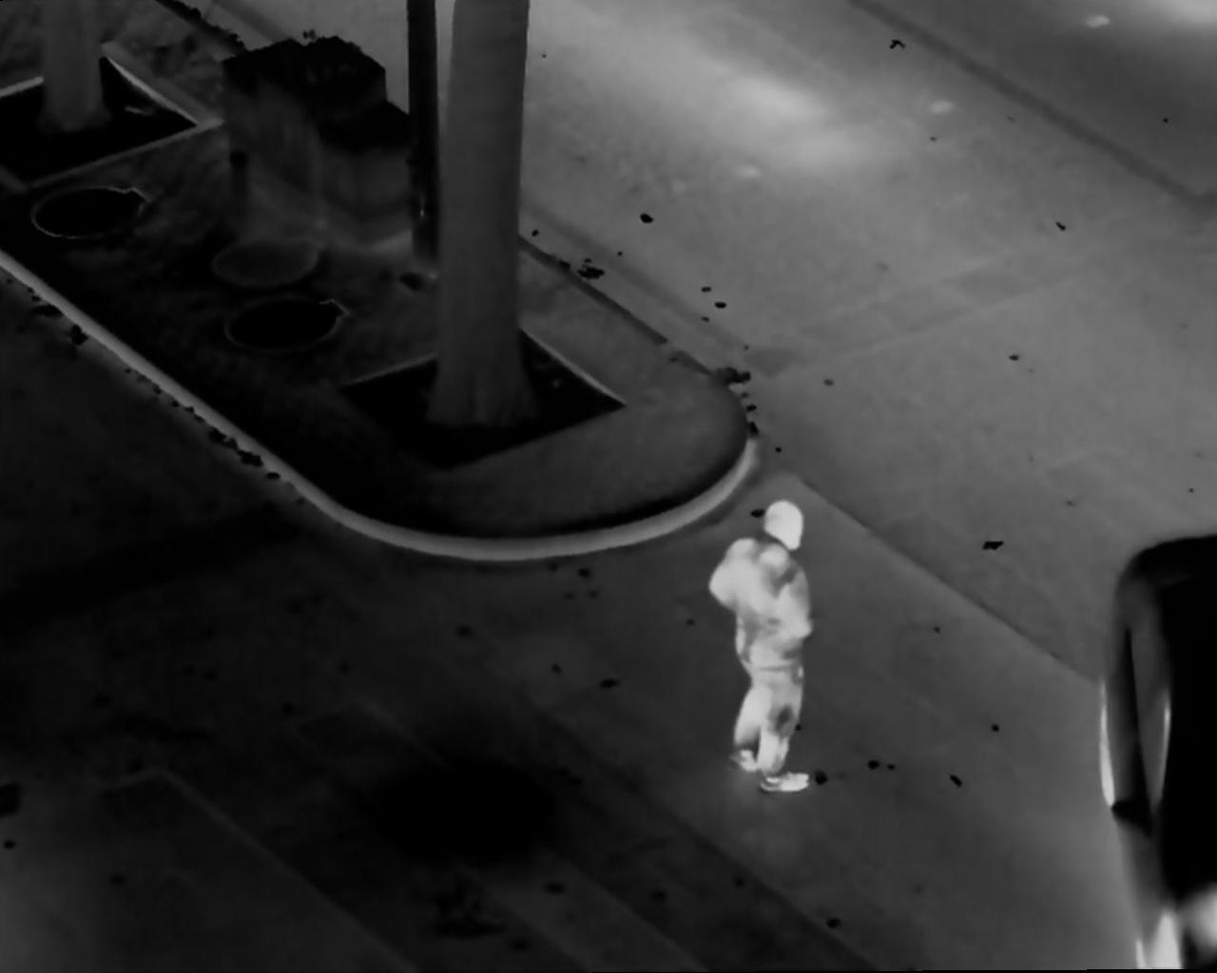person: (705, 498, 813, 791)
